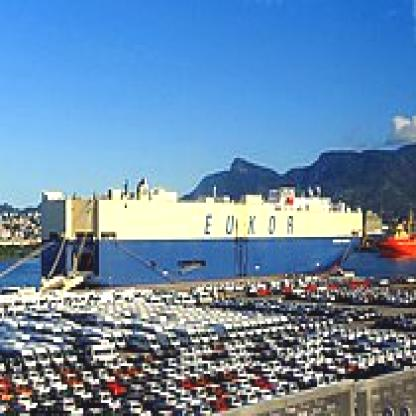Tanker: (43, 204, 363, 284)
